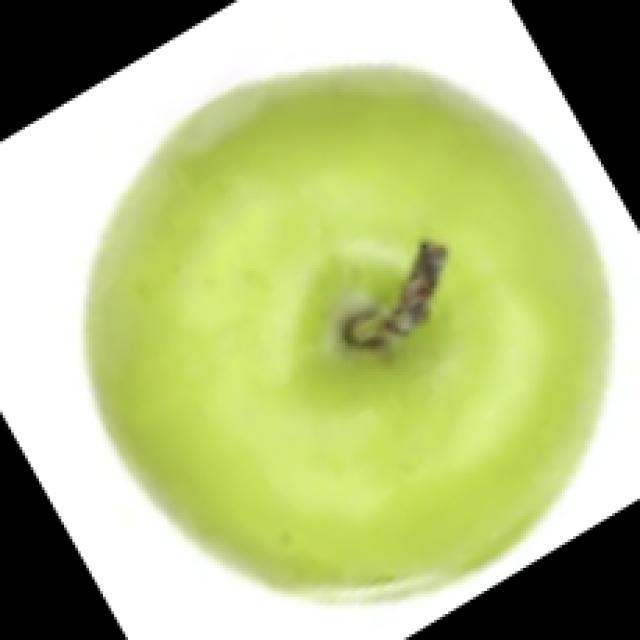Fresh Apple: (95, 72, 620, 578)
